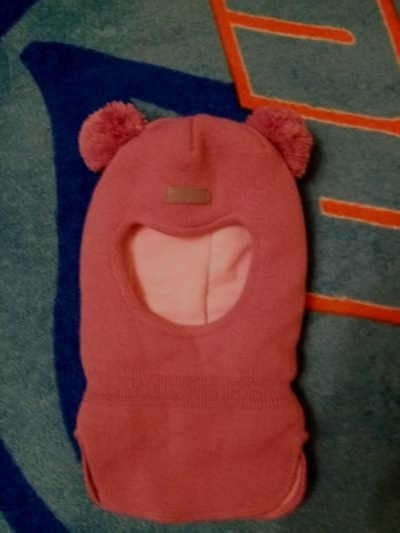Hat: (38, 89, 338, 523)
